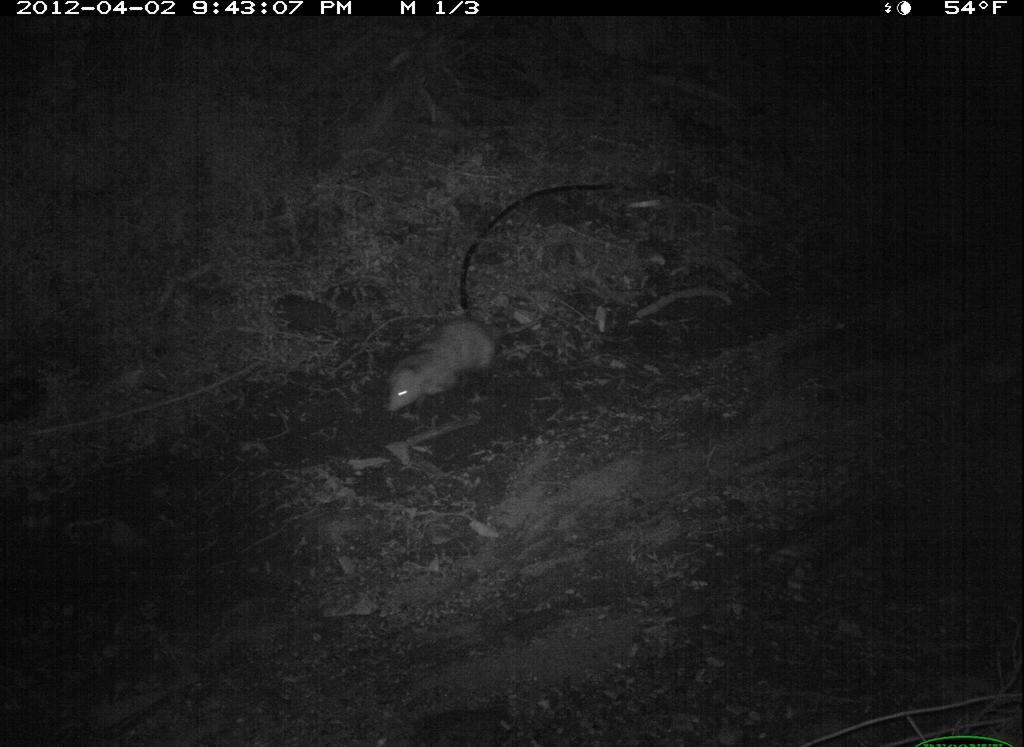opossum: (376, 297, 556, 419)
